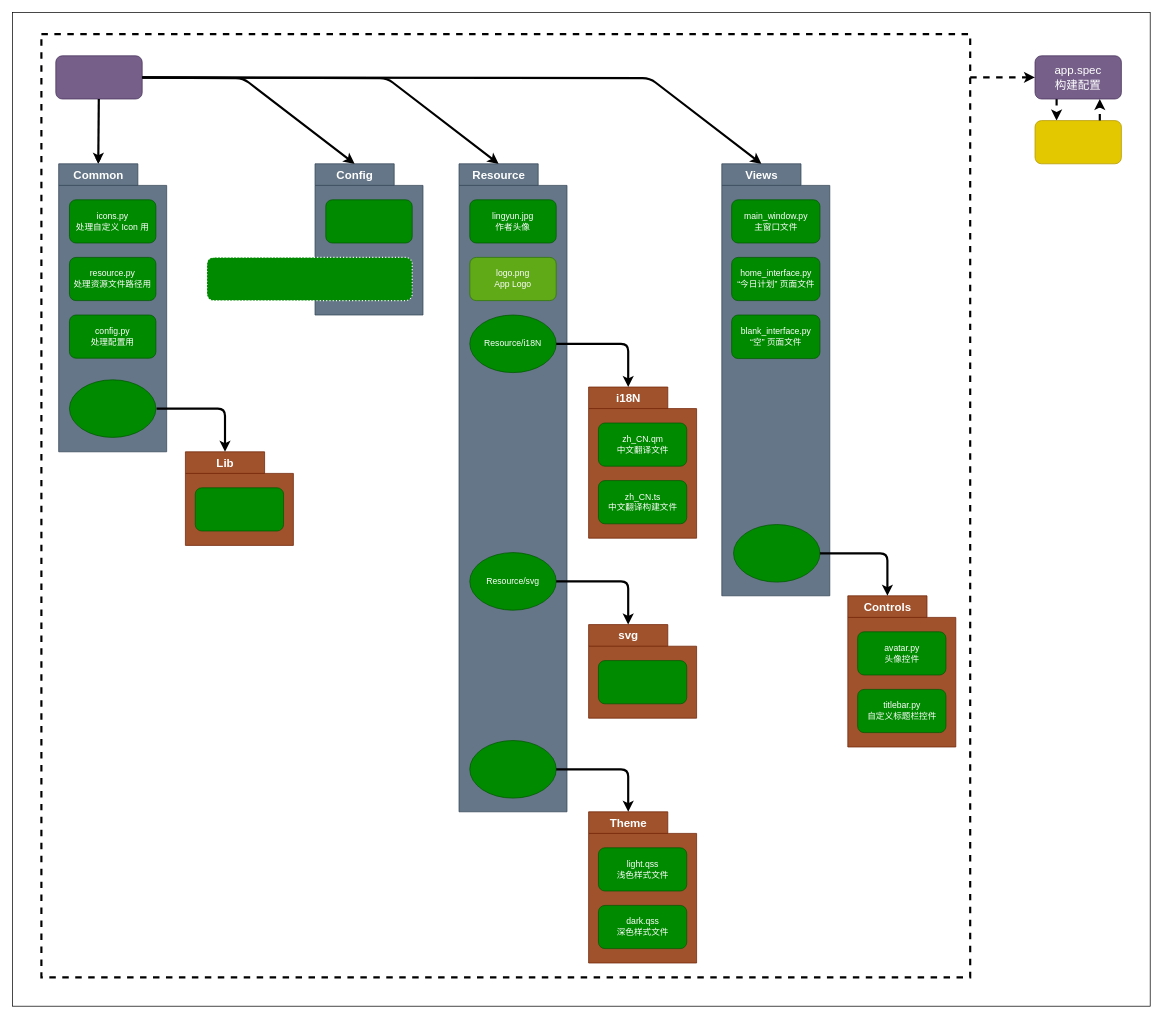
This 1163x1019 diagram has some shape labels left out. The shapes that lost their labels are listed below. From the top down, each one's centre as x and y in pixels, then its label:
[98,77]: app.py 主程序
[1077,142]: build.bat 构建脚本
[368,221]: config.json 测试用配置文件
[309,279]: "C:\ProgramData\YunSchedule\config\config.json" 主配置文件（发布时用）
[112,408]: Common/Lib
[239,509]: g_config.py <Fluent Widget> Config组件
[776,553]: Views/Controls
[642,682]: moon_light.svg moon_dark.svg 月亮图标
[512,769]: Resource/theme
